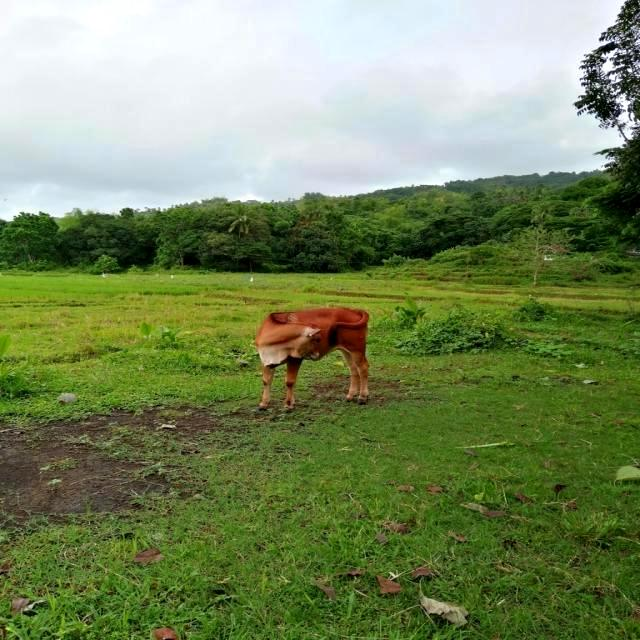COW: (255, 308, 369, 409)
